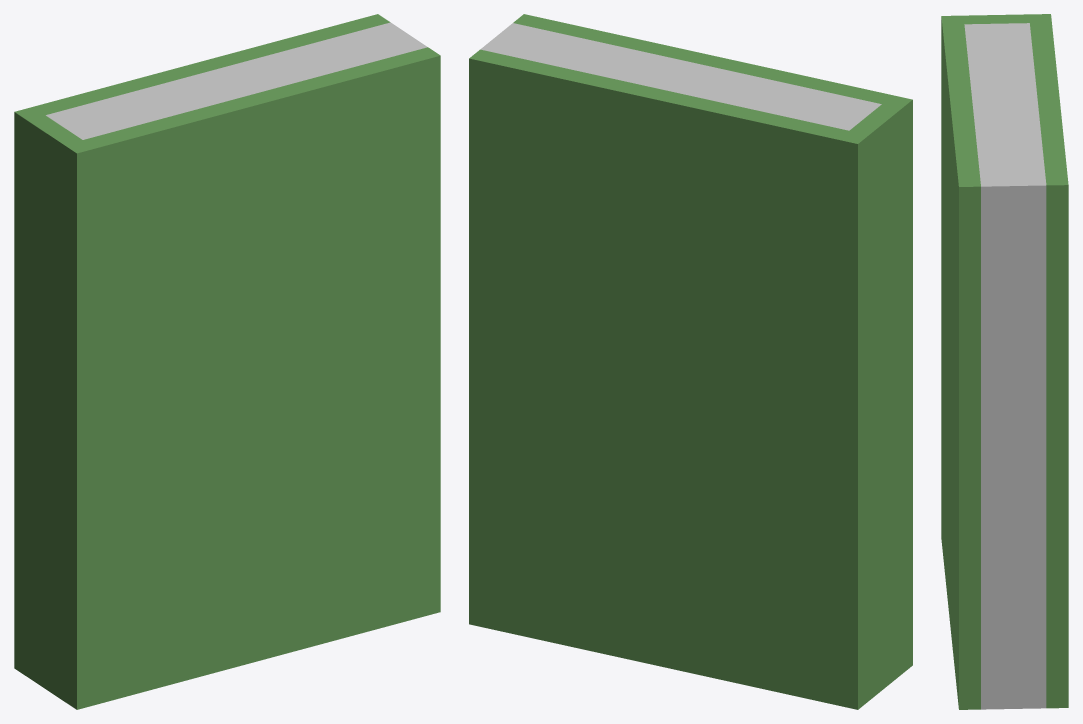
Rendered from SM_Book_05.fbx.
3 renders of one model, left to right at view 1: azimuth 30°, elevation 25°; view 2: azimuth 150°, elevation 25°; view 3: azimuth 270°, elevation 25°, orthographic. The views are drawn at different scales.
Parts seen in each view (by area): view 1: SM_Book_05; view 2: SM_Book_05; view 3: SM_Book_05.
Part boxes in pixels (box(x1,y1,x2,y2)): SM_Book_05: box(14, 14, 440, 709); SM_Book_05: box(469, 14, 912, 709); SM_Book_05: box(941, 14, 1068, 709).
Size of the model in its own units: 20.58 by 29 by 6.39.
1 material, 1 textured.
